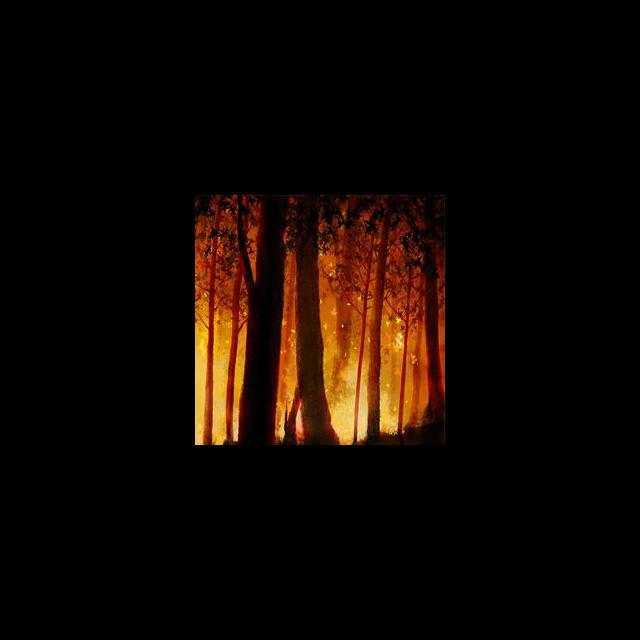Fire: (196, 278, 424, 444)
